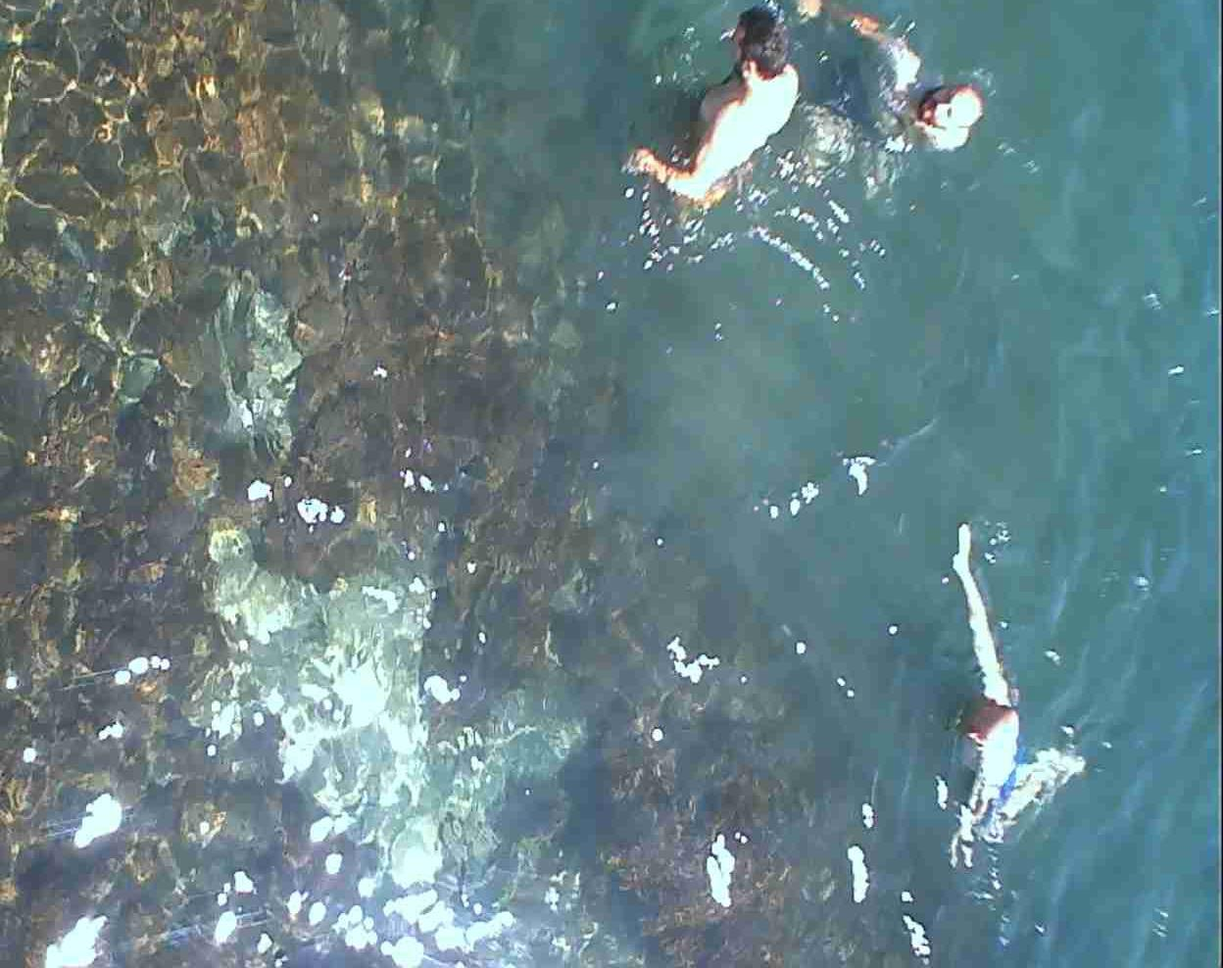swimmer: (886, 580, 1092, 876), (653, 9, 807, 270), (791, 49, 1024, 193)
